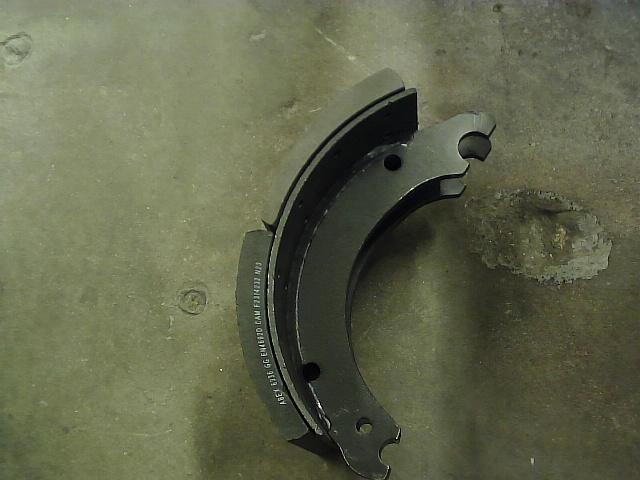brake-shoes: (234, 66, 498, 480)
